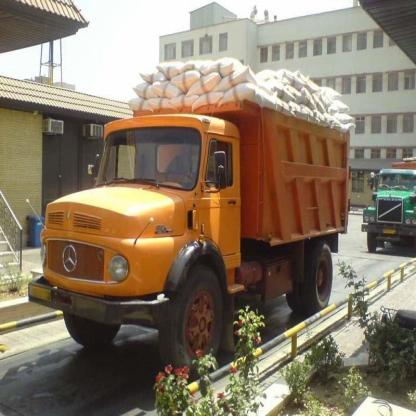Truck: (30, 60, 354, 340), (359, 148, 416, 258)
